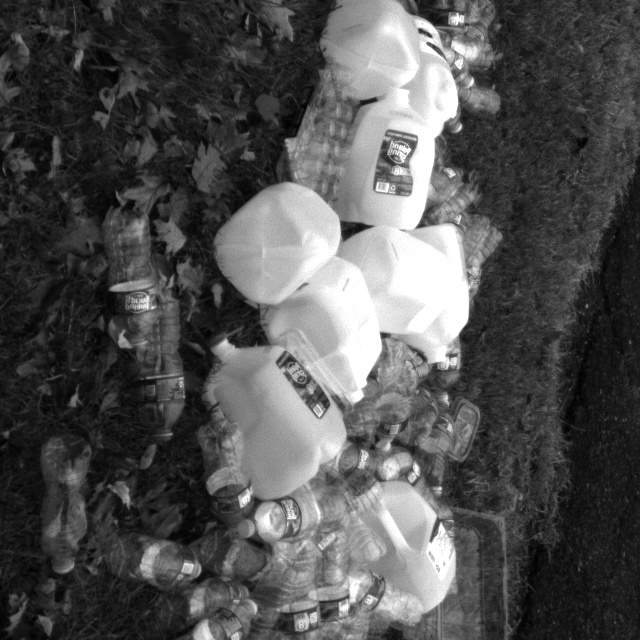bottle: (88, 195, 159, 388), (37, 423, 102, 602), (144, 249, 199, 440), (96, 521, 226, 601), (232, 480, 354, 547), (295, 509, 356, 640), (132, 590, 264, 640), (425, 0, 482, 59)
can: (257, 247, 404, 416), (207, 328, 356, 488), (205, 169, 363, 318), (344, 472, 459, 623), (339, 92, 447, 232), (394, 211, 478, 371), (312, 0, 419, 119), (349, 221, 442, 340), (408, 30, 457, 137)
container: (388, 494, 526, 640), (272, 54, 382, 213), (425, 394, 497, 463)
